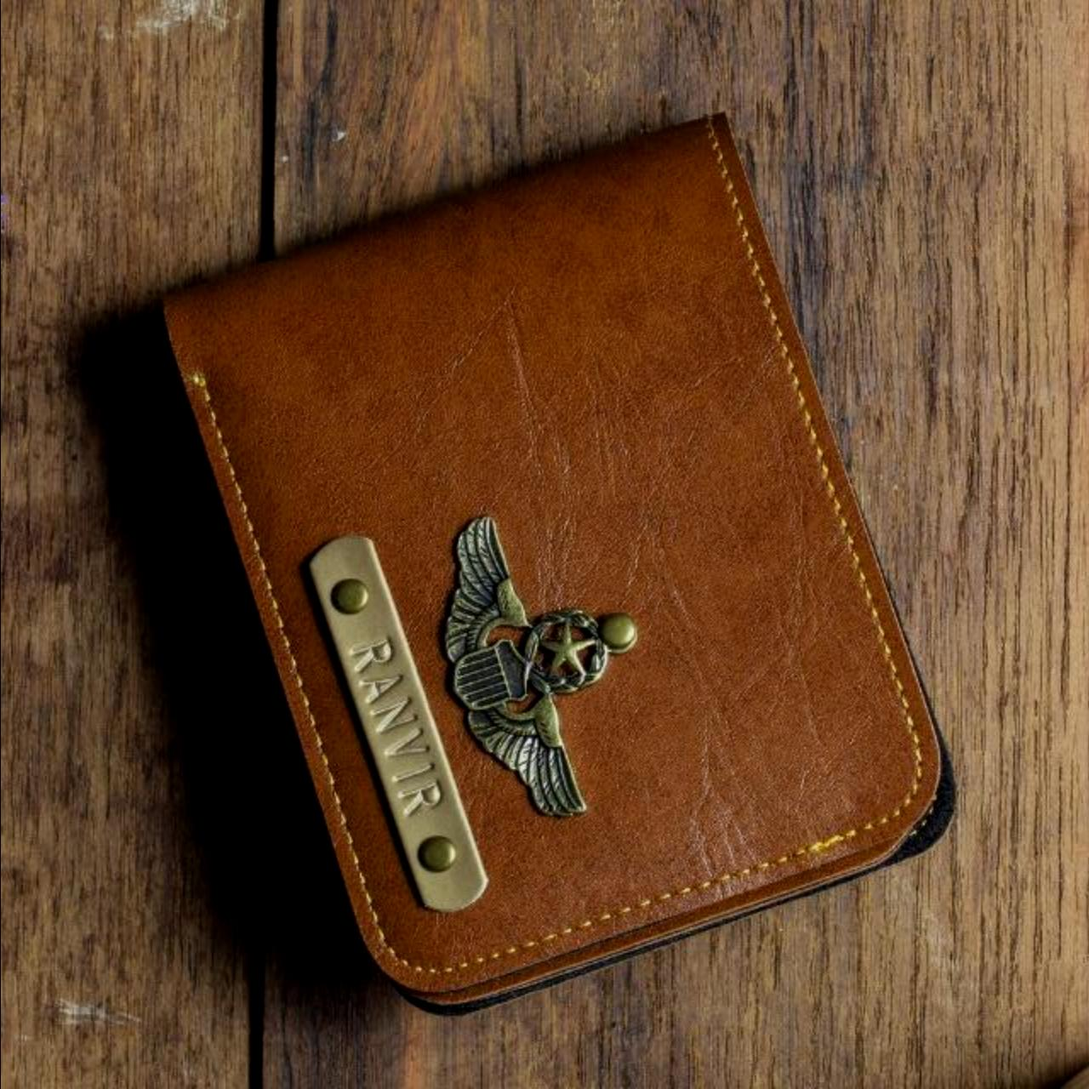wallet: (108, 104, 962, 1057)
